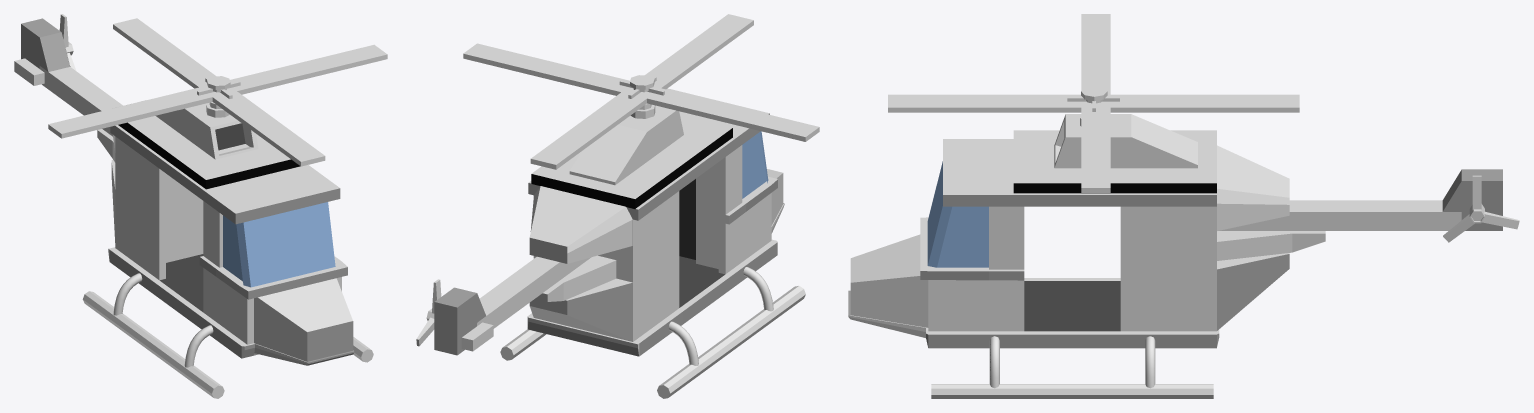
Rendered from HelicopterV2.fbx.
The picture shows the model from 3 angles, left to right: view 1: azimuth 30°, elevation 25°; view 2: azimuth 150°, elevation 25°; view 3: azimuth 270°, elevation 25°; orthographic projection. The views are drawn at different scales.
Visible parts, largest first — view 1: Cube, Cube.003, Cube.001, Cube.002, Cylinder.005, BezierCurve.001, BezierCurve, Cylinder.004; view 2: Cube, Cube.003, Cube.001, Cube.002, Cylinder.005, Cylinder.004, BezierCurve.001, BezierCurve; view 3: Cube, Cube.003, Cube.001, Cube.002, Cylinder.004.
Boxes of the visible parts, x1=… form: Cube: x1=14, y1=18, x2=354, y2=365; Cube.003: x1=48, y1=18, x2=387, y2=166; Cube.001: x1=118, y1=116, x2=300, y2=189; Cube.002: x1=155, y1=103, x2=258, y2=159; Cylinder.005: x1=82, y1=291, x2=224, y2=398; BezierCurve.001: x1=113, y1=273, x2=142, y2=315; BezierCurve: x1=184, y1=325, x2=213, y2=367; Cylinder.004: x1=353, y1=337, x2=373, y2=362; Cube: x1=434, y1=88, x2=784, y2=356; Cube.003: x1=463, y1=14, x2=819, y2=169; Cube.001: x1=531, y1=115, x2=732, y2=208; Cube.002: x1=569, y1=105, x2=683, y2=185; Cylinder.005: x1=657, y1=286, x2=805, y2=398; Cylinder.004: x1=500, y1=329, x2=546, y2=360; BezierCurve.001: x1=668, y1=321, x2=698, y2=365; BezierCurve: x1=743, y1=267, x2=773, y2=311; Cube: x1=848, y1=139, x2=1502, y2=348; Cube.003: x1=888, y1=14, x2=1299, y2=192; Cube.001: x1=1013, y1=130, x2=1216, y2=193; Cube.002: x1=1054, y1=114, x2=1197, y2=168; Cylinder.004: x1=931, y1=384, x2=1213, y2=398.
Bounding box in the file's own units: 890 × 639 × 1451.
